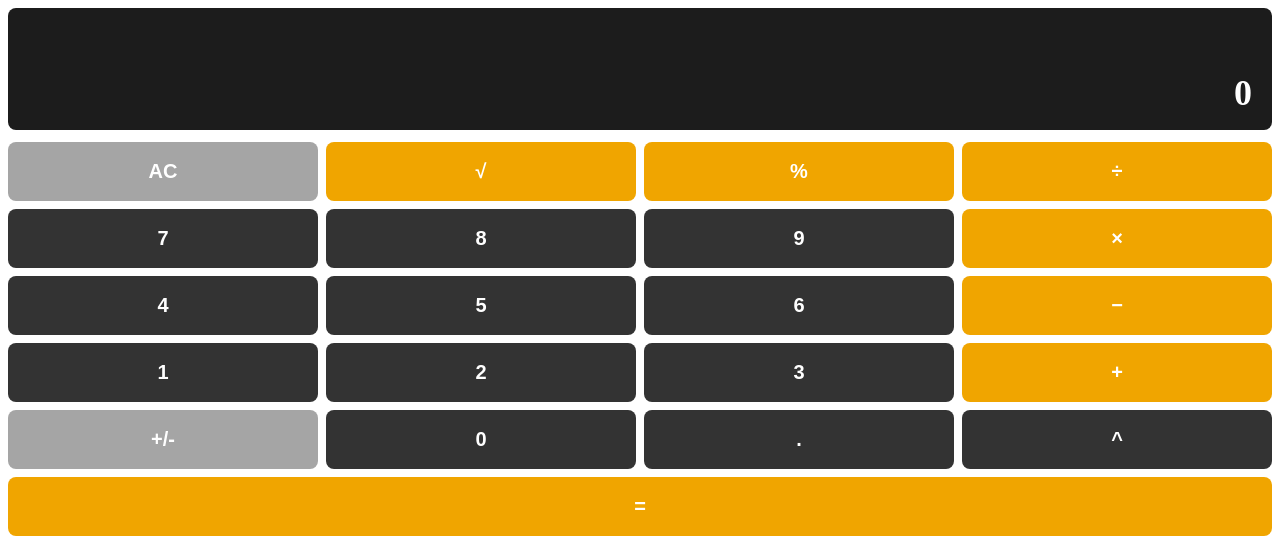
Scenario: Calculator › displays numbers when buttons are clicked
The width and height of the screenshot is (1280, 553).
Click the button "5".
click(481, 306)  # box [326,276,636,335]
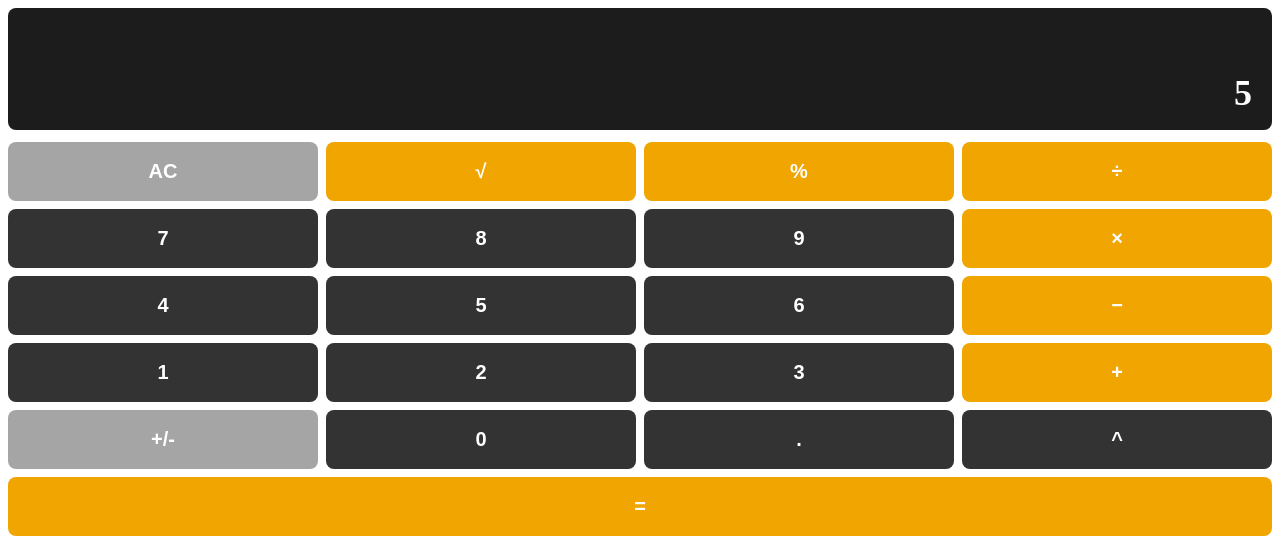
Click the button "3".
click(799, 372)  # box [644,343,954,402]
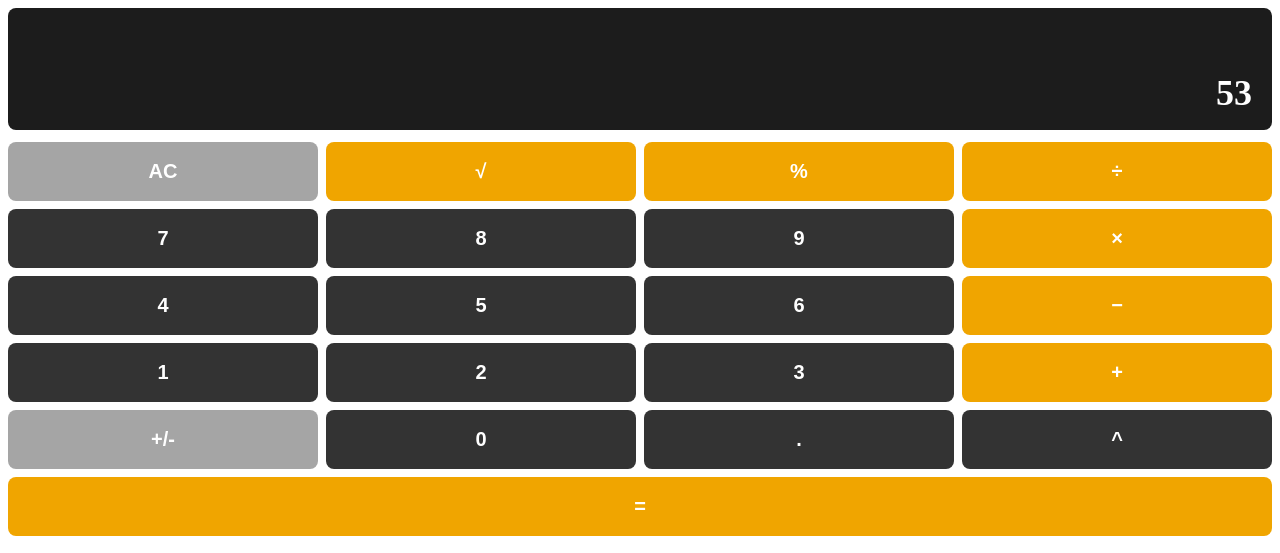
Now the text "53" is shown, box [1216,72,1252,114]
